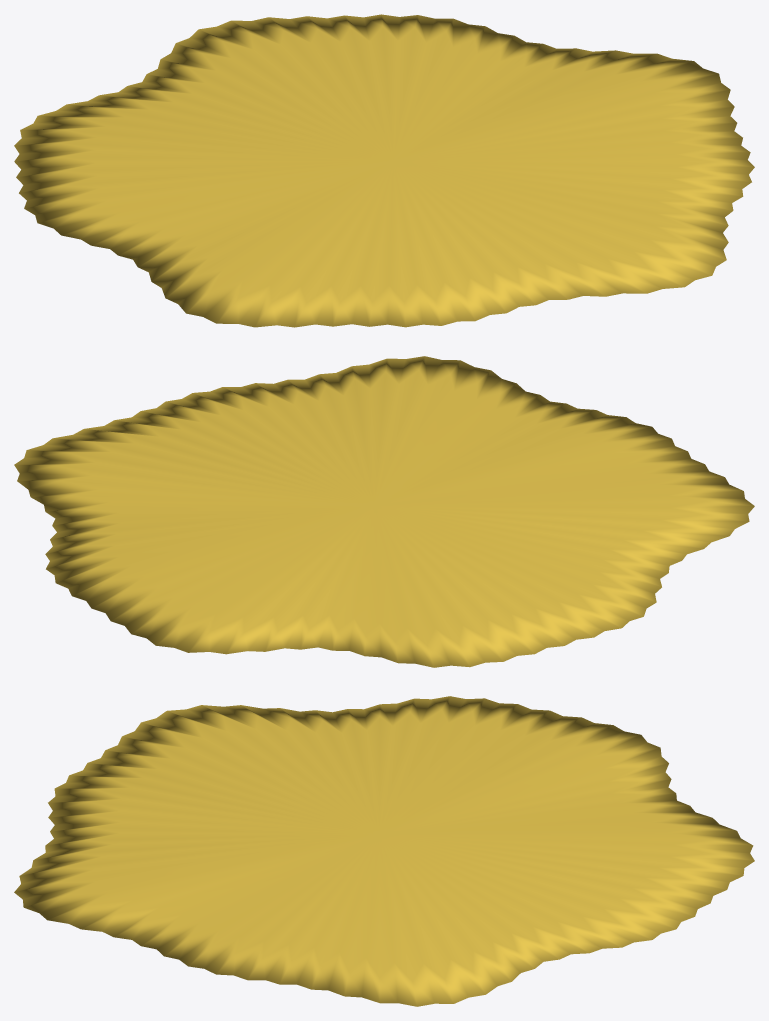
The model's file is mustard.glb.
3 renders of one model, top to bottom at view 1: azimuth 30°, elevation 25°; view 2: azimuth 150°, elevation 25°; view 3: azimuth 270°, elevation 25°, orthographic. The views are drawn at different scales.
Parts seen in each view (by area): view 1: mustard; view 2: mustard; view 3: mustard.
Boxes of the visible parts, left/top/right/bottom form: mustard: left=14, top=14, right=754, bottom=327; mustard: left=14, top=356, right=754, bottom=667; mustard: left=14, top=696, right=754, bottom=1006.
Bounding box in the file's own units: 0.7851 × 0.0255 × 0.7912.
